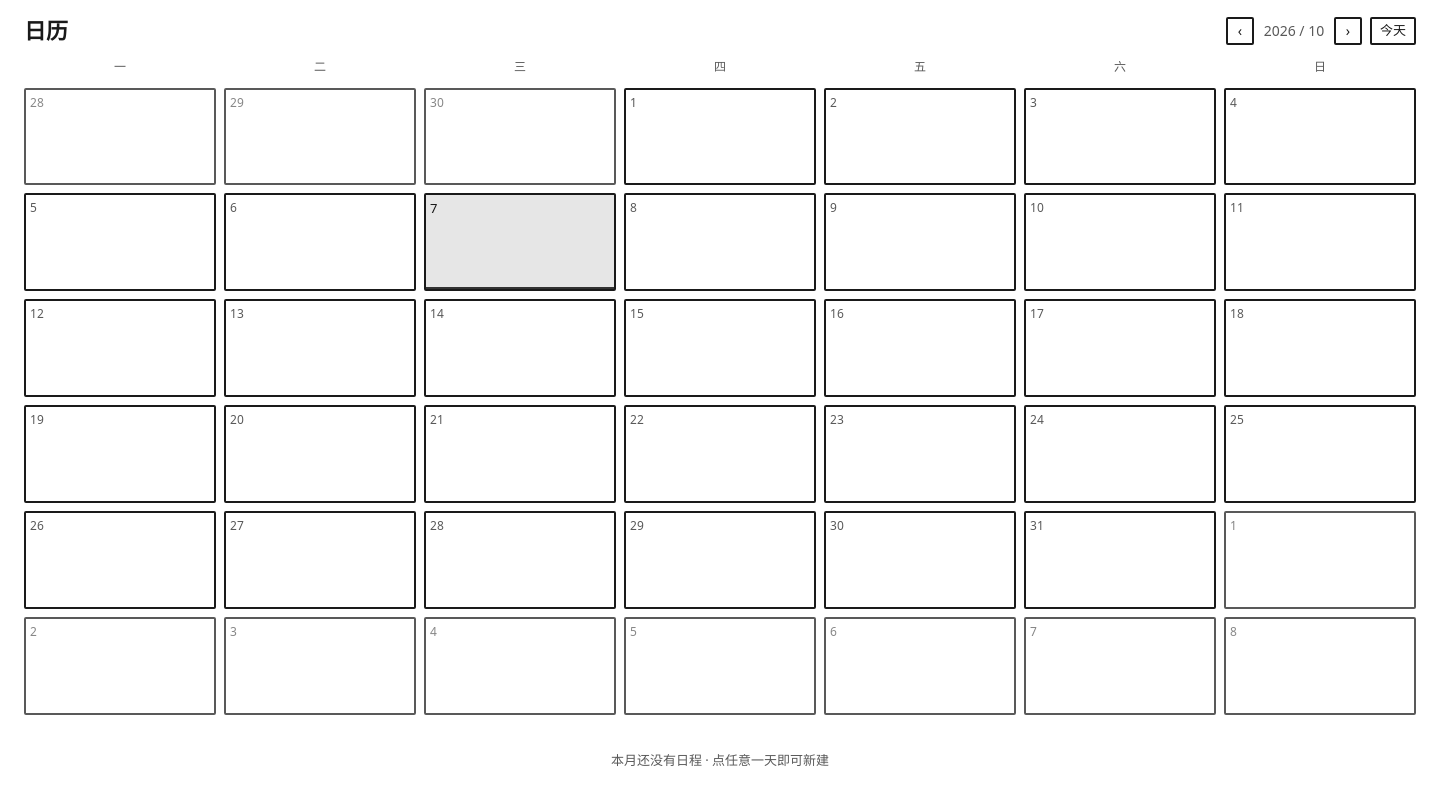
Test: T97-01 日历页 · 新建 / 编辑 / 删除 › ④b 结束早于开始：提示且不落库
Step 1. Click the 1st cell "7" → [520, 242], box left=424, top=194, right=616, bottom=291
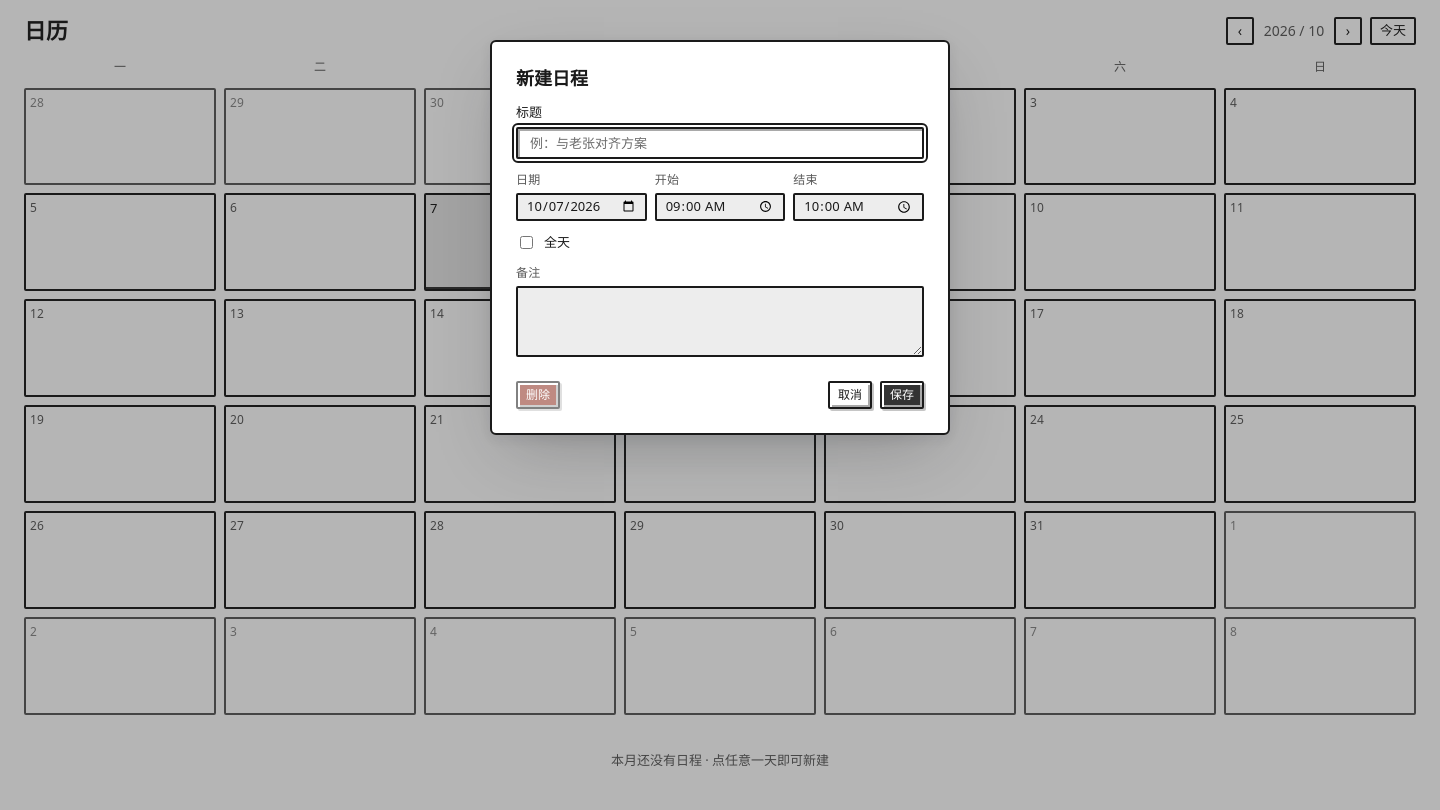
Step 2. Type "时间反了" into the field with test id "calendar-event-title" → [720, 143], box left=516, top=127, right=924, bottom=159
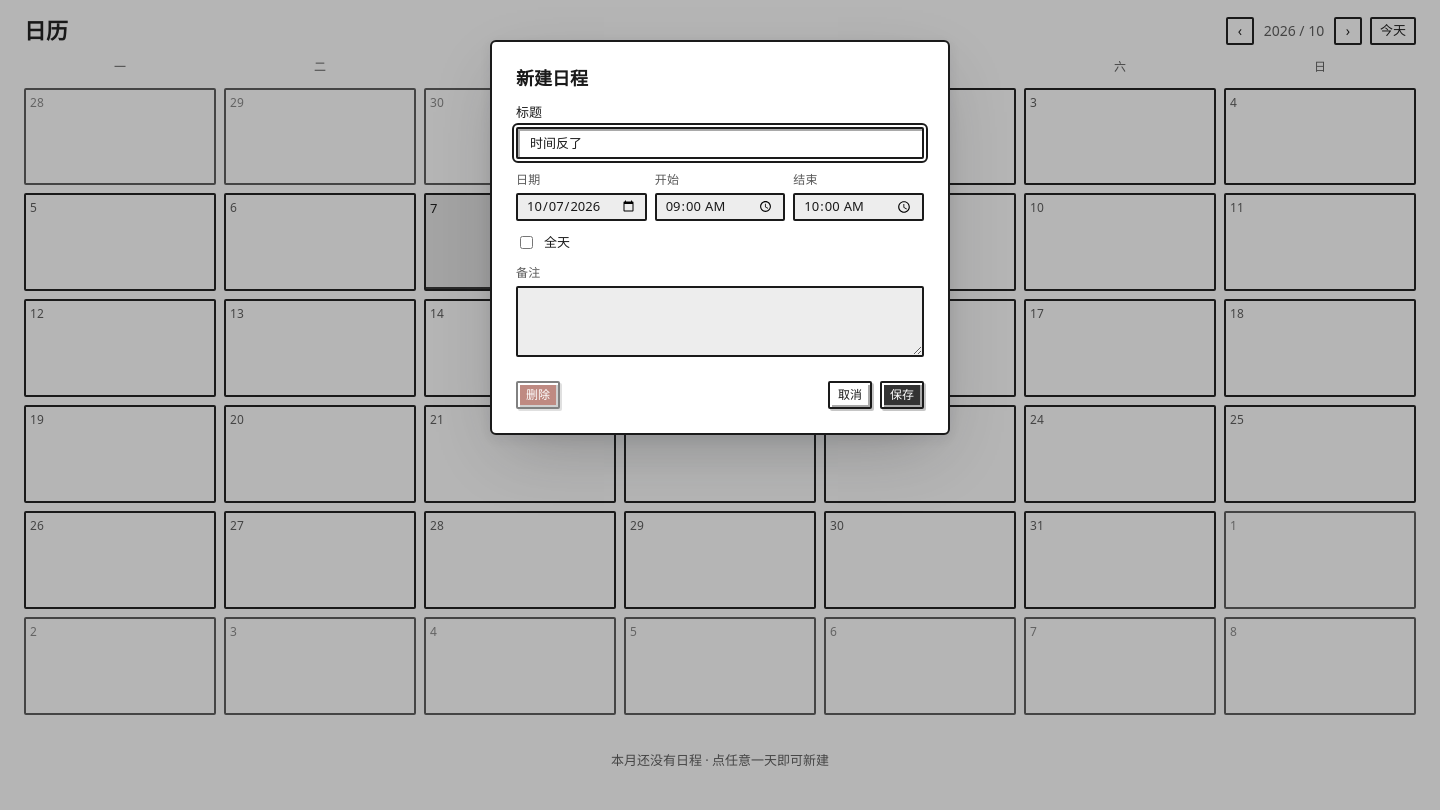
Step 3. Replace the text in the time field with test id "calendar-event-start" with "10:00" → [720, 207], box left=655, top=193, right=785, bottom=221
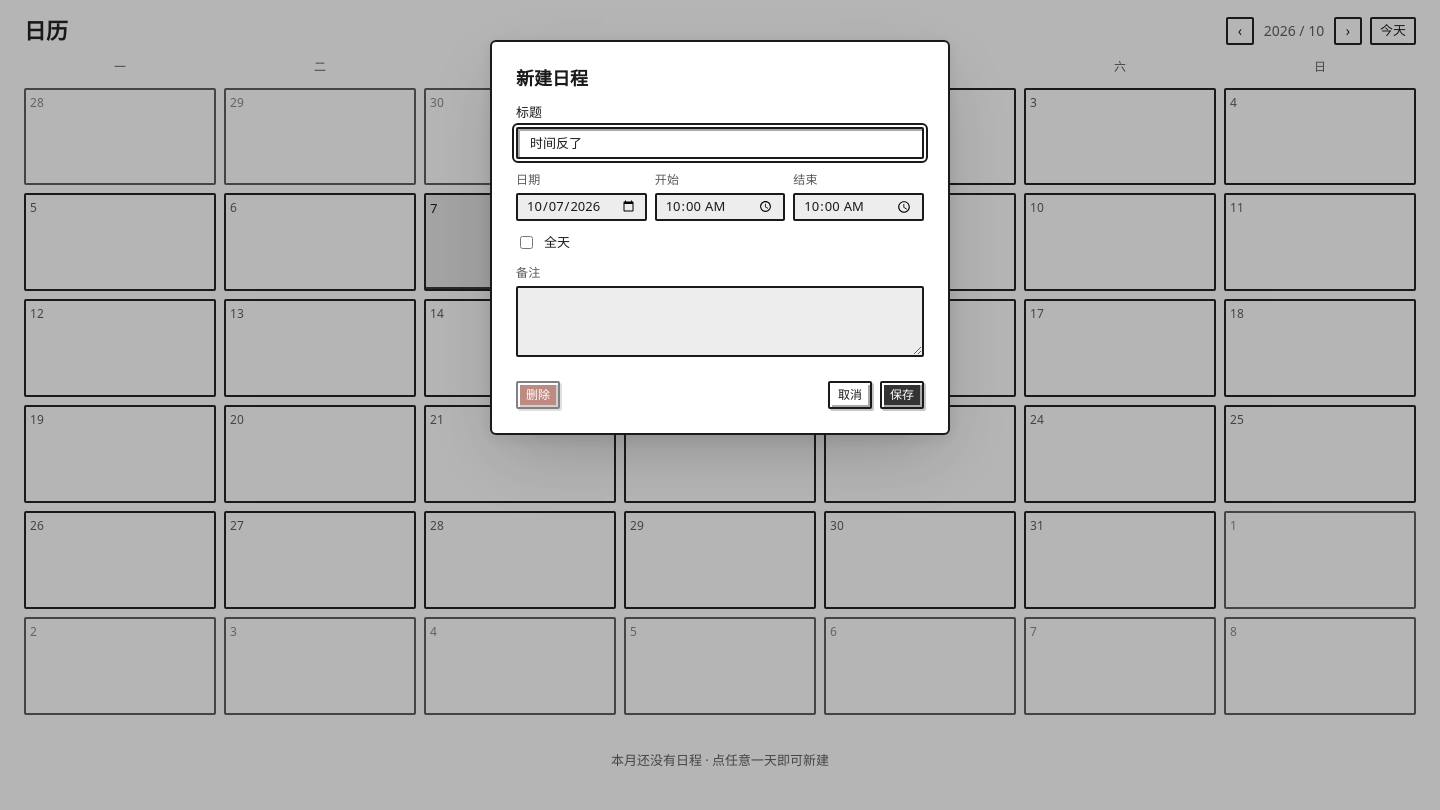
Step 4. Replace the text in the time field with test id "calendar-event-end" with "09:00" → [859, 207], box left=793, top=193, right=924, bottom=221
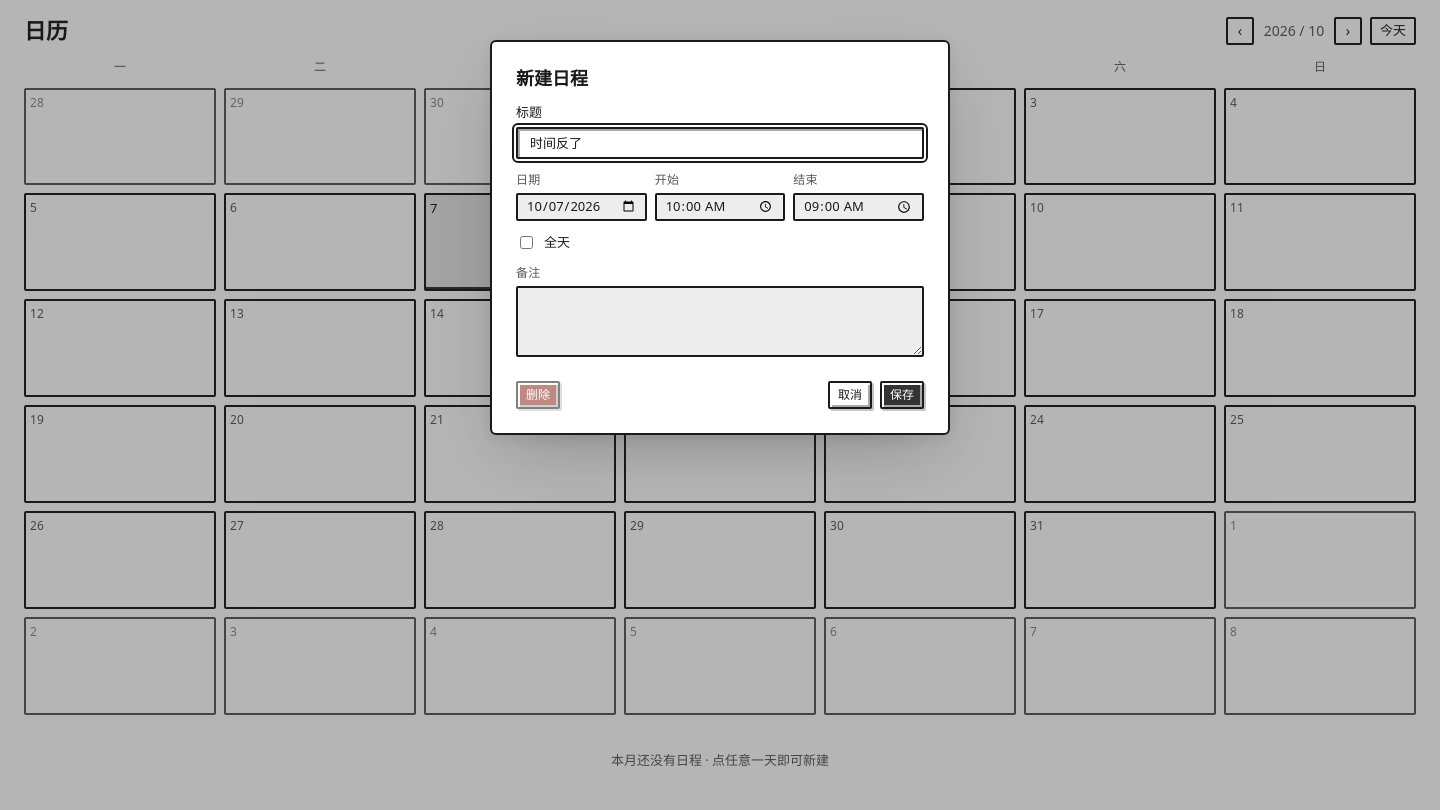
Step 5. Click the button with test id "calendar-event-save" → [902, 395], box left=880, top=381, right=924, bottom=409
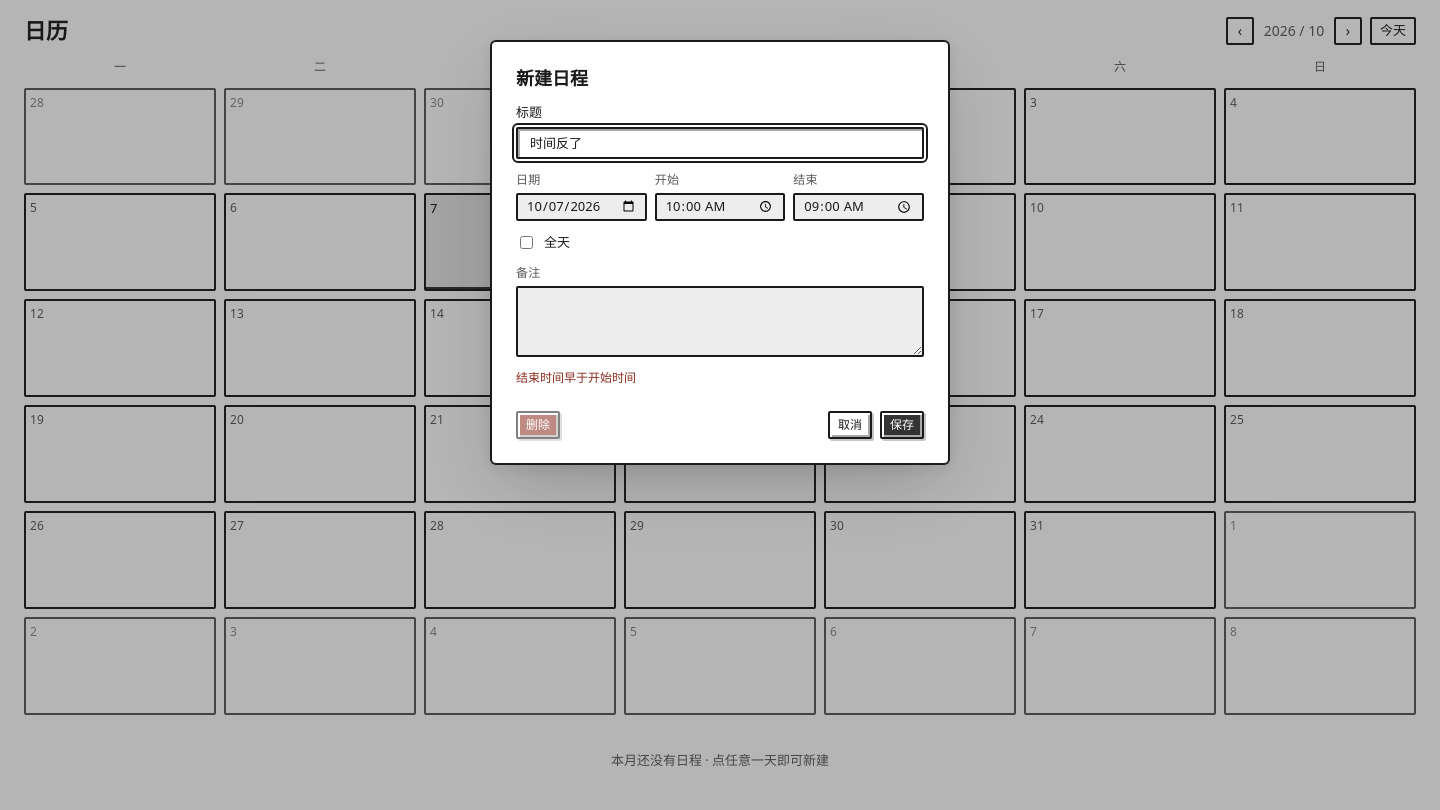
Expected: the message with test id "calendar-event-error" reads "结束时间早于开始时间", left=516, top=369, right=636, bottom=386
